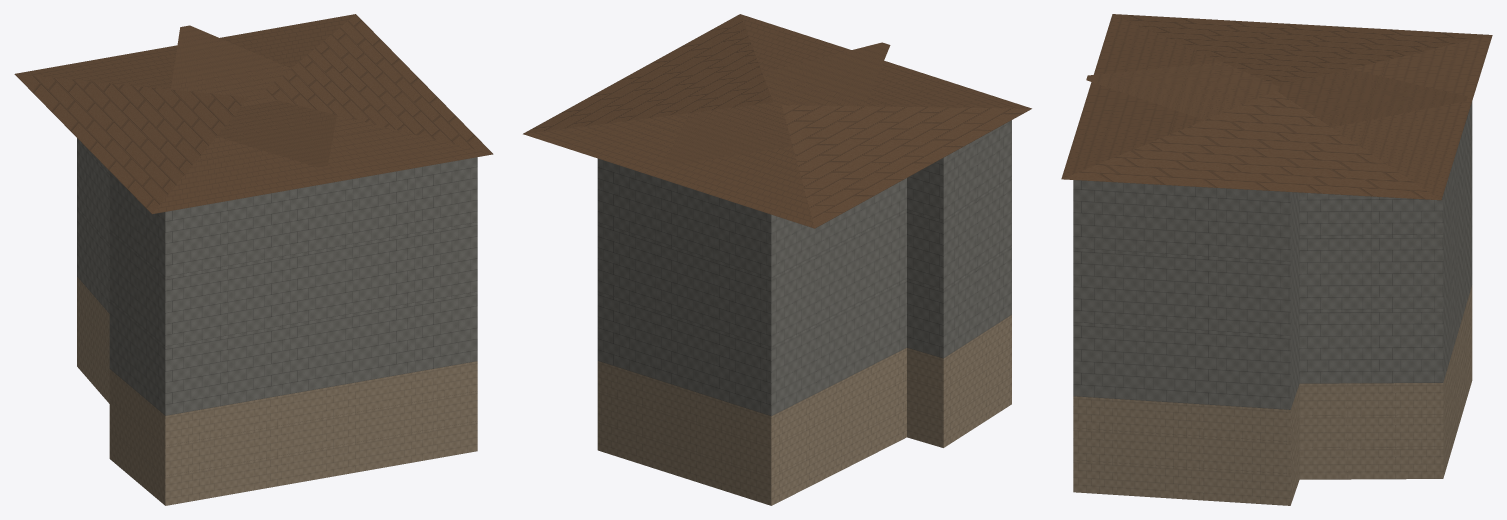
File: bld_c-3_-12_634.gltf
The picture shows the model from 3 angles, left to right: view 1: azimuth 30°, elevation 25°; view 2: azimuth 150°, elevation 25°; view 3: azimuth 270°, elevation 25°; orthographic projection. The views are drawn at different scales.
Visible parts, largest first — view 1: bld_c-3_-12_634; view 2: bld_c-3_-12_634; view 3: bld_c-3_-12_634.
Boxes of the visible parts, bbox=[...] form: bld_c-3_-12_634: bbox=[14, 14, 493, 505]; bld_c-3_-12_634: bbox=[523, 14, 1031, 505]; bld_c-3_-12_634: bbox=[1061, 14, 1492, 505].
Size of the model in its own units: 21.22 by 17.9 by 20.76.
3 materials, 3 textured.
